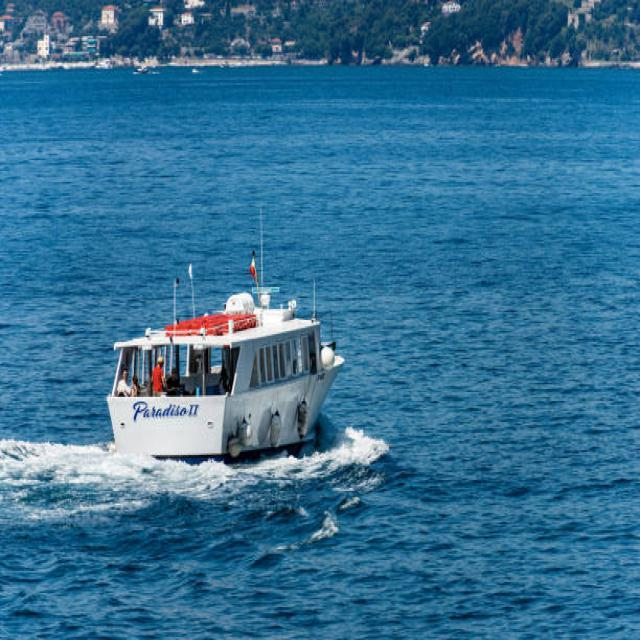ship: (104, 228, 358, 468)
